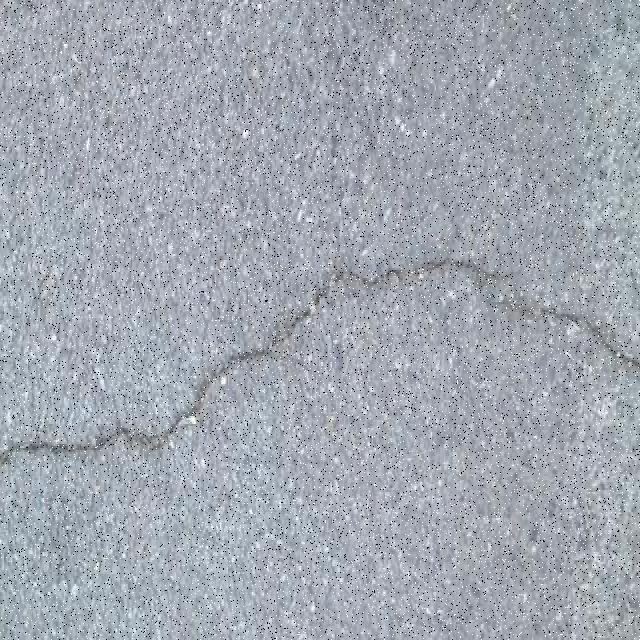minor crack: (7, 256, 640, 472)
moderate crack: (170, 344, 296, 432), (4, 420, 173, 468)
severe crack: (361, 256, 598, 297), (232, 280, 336, 360), (549, 311, 637, 375)
